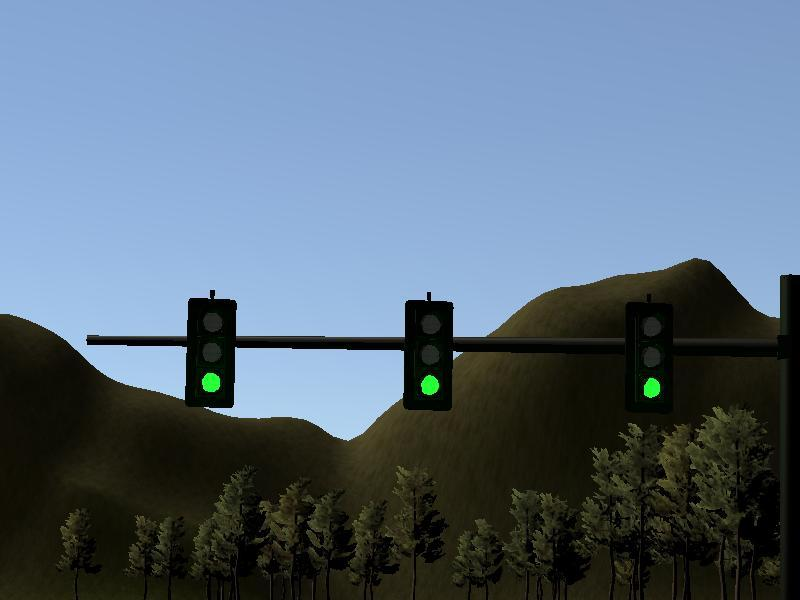Green: (626, 299, 671, 417), (188, 297, 235, 408), (406, 302, 451, 411)
